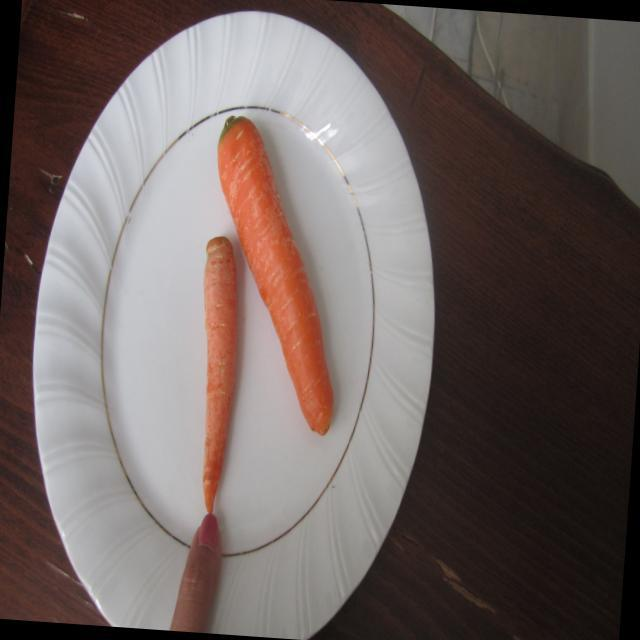Carrot: (192, 101, 362, 448), (180, 223, 253, 516)
Finger: (163, 509, 236, 629)
